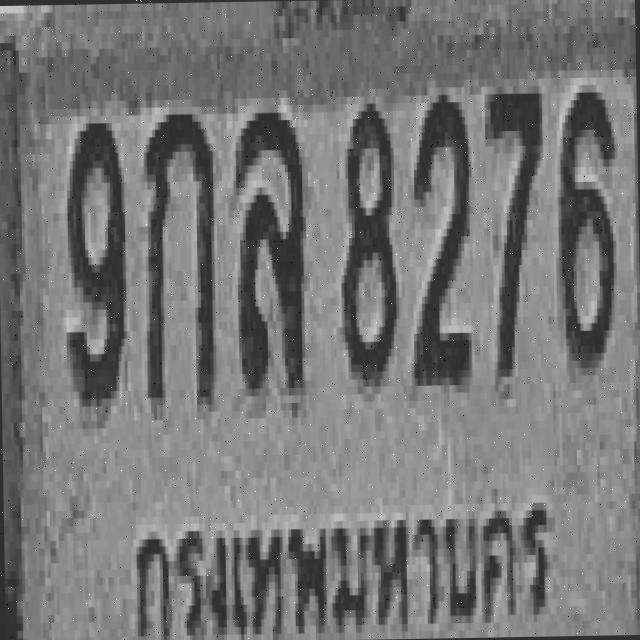10GorGai: (143, 106, 217, 405)
2: (409, 87, 472, 385)
45LorLing: (233, 105, 307, 396)
6: (556, 84, 618, 368)
7: (485, 86, 545, 377)
8: (338, 96, 398, 387)
9: (64, 112, 126, 410)
Bangkok: (116, 485, 559, 640)
